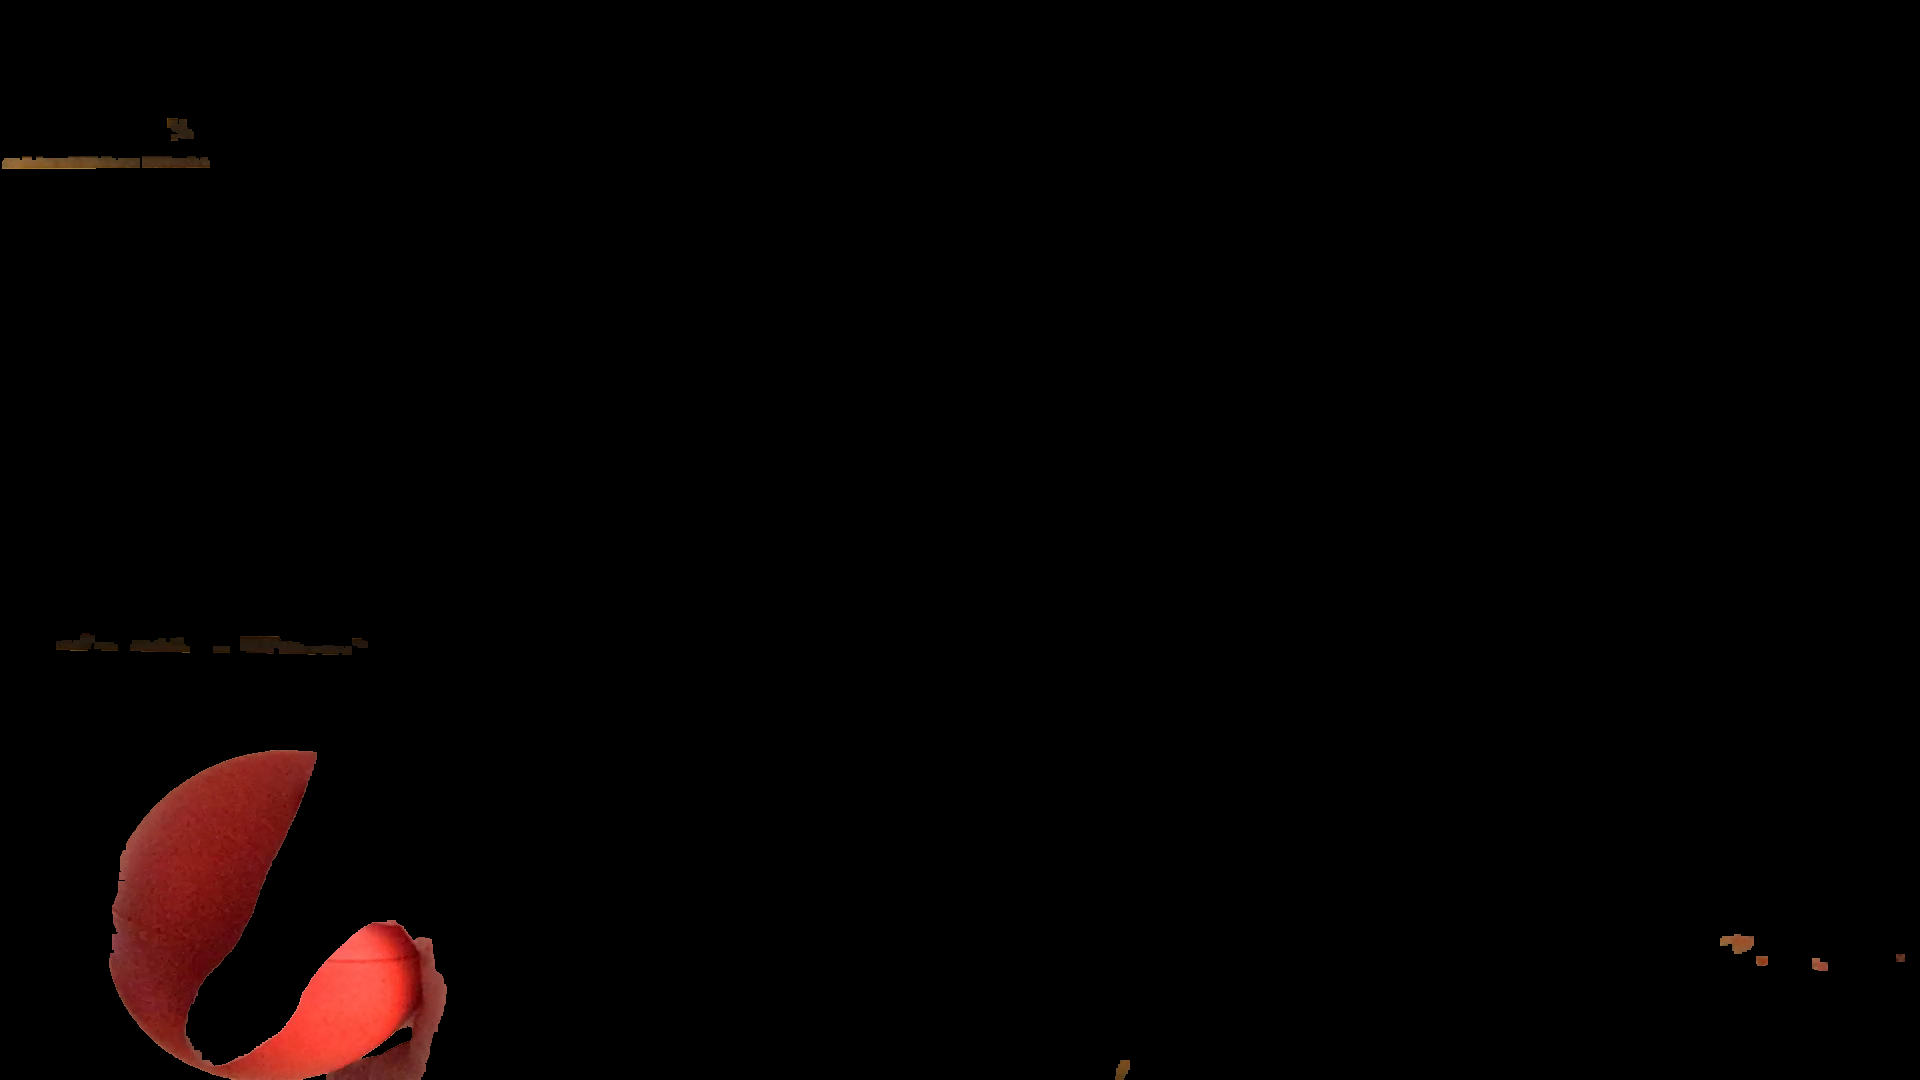Ball: (107, 744, 435, 1077)
